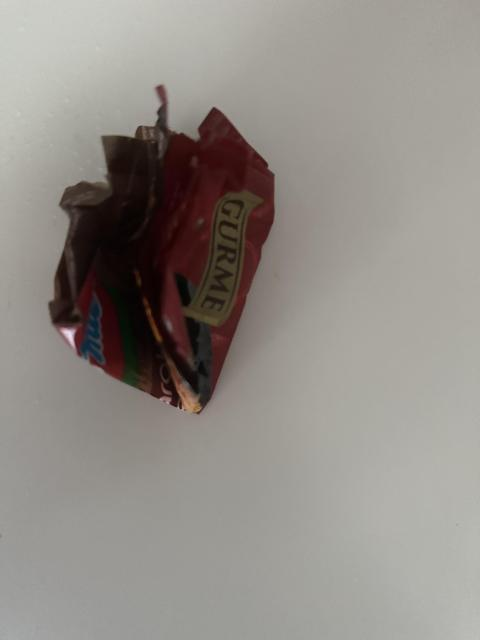Plastik: (43, 90, 276, 406)
